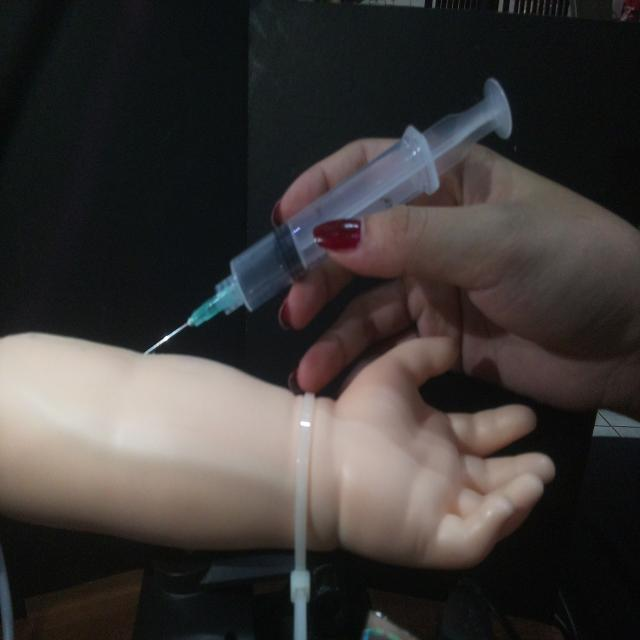29deg: (140, 72, 516, 358)
